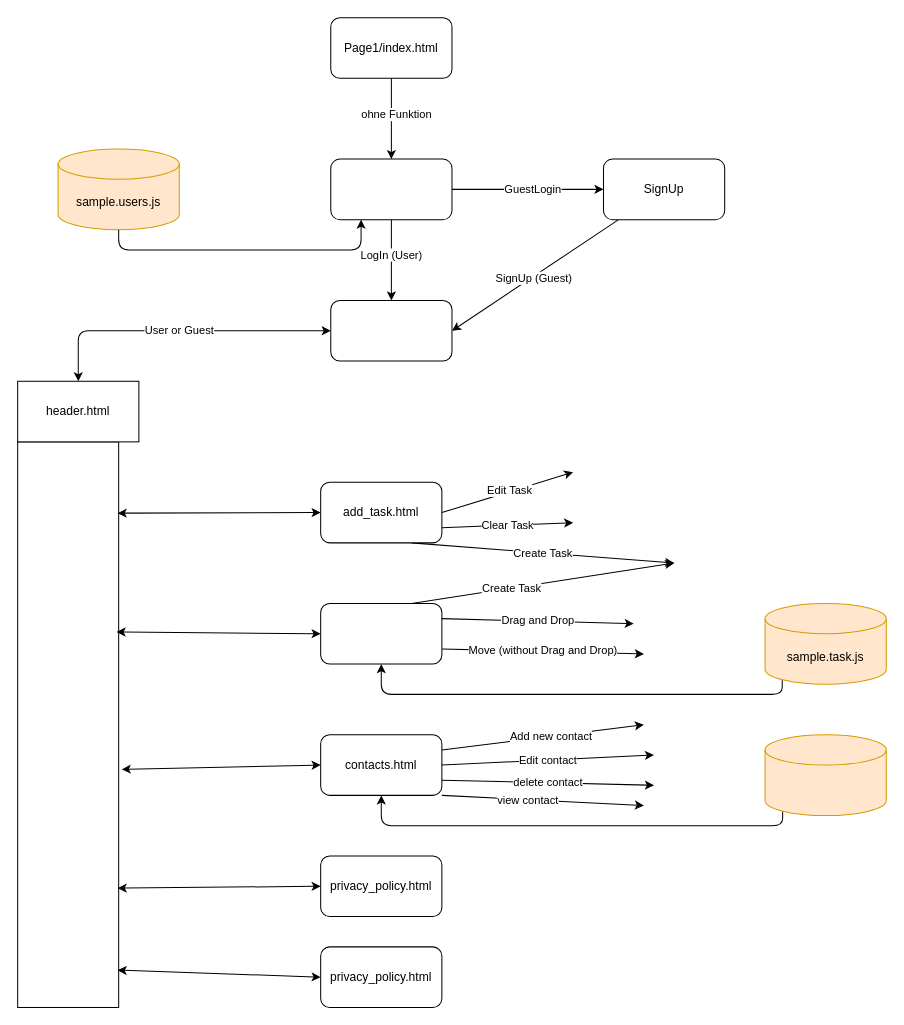
Image size: 904x1025. Some labels were removed from this diagram. Each missing label, with the centre of its shape:
"board.html" belongs at [381,633].
"index.html" belongs at [391,189].
"nav-bar.html" belongs at [68,724].
"sample.contacts.js" belongs at [825,775].
"summary.html" belongs at [391,330].
